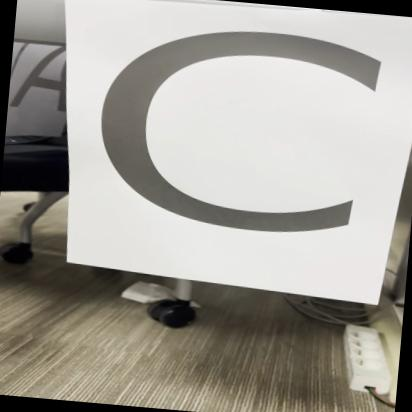seat: (33, 0, 412, 295)
